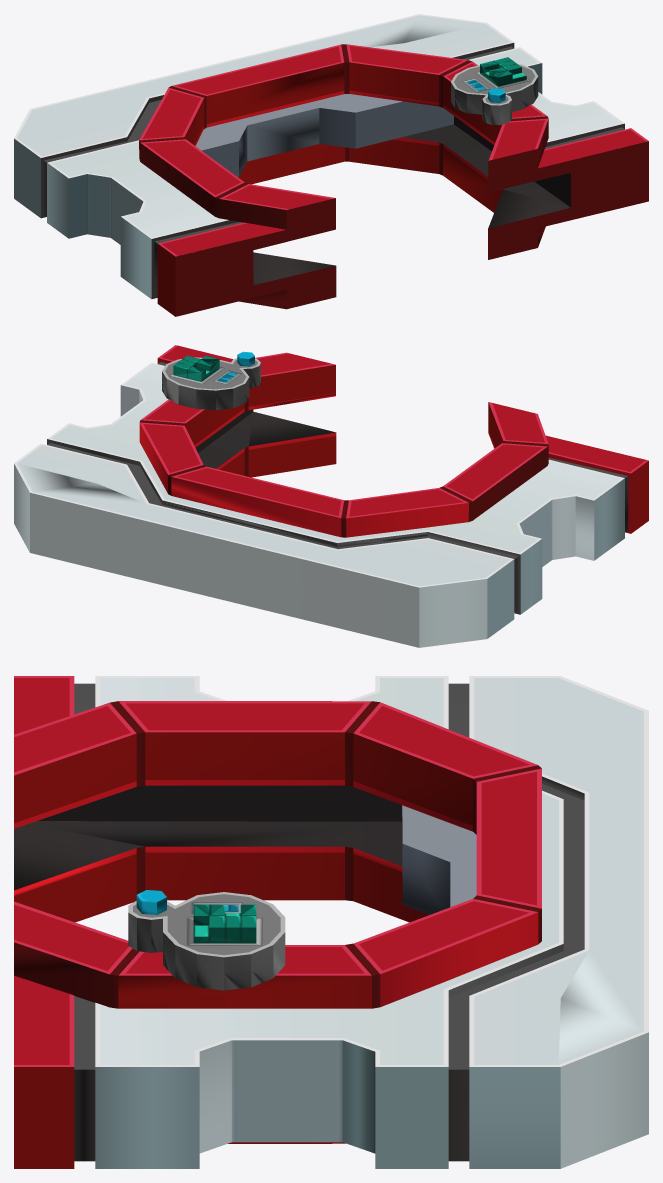
File: SpaceDoorWall.fbx
The picture shows the model from 3 angles, top to bottom: view 1: azimuth 30°, elevation 25°; view 2: azimuth 150°, elevation 25°; view 3: azimuth 270°, elevation 25°; orthographic projection. The views are drawn at different scales.
Parts seen in each view (by area): view 1: SpaceDoorWall:SpaceDoorWall; view 2: SpaceDoorWall:SpaceDoorWall; view 3: SpaceDoorWall:SpaceDoorWall.
Part boxes in pixels (<box>): SpaceDoorWall:SpaceDoorWall: <box>14,14,648,316</box>; SpaceDoorWall:SpaceDoorWall: <box>14,345,648,647</box>; SpaceDoorWall:SpaceDoorWall: <box>14,676,648,1168</box>.
Bounding box in the file's own units: 287 × 74.16 × 197.
